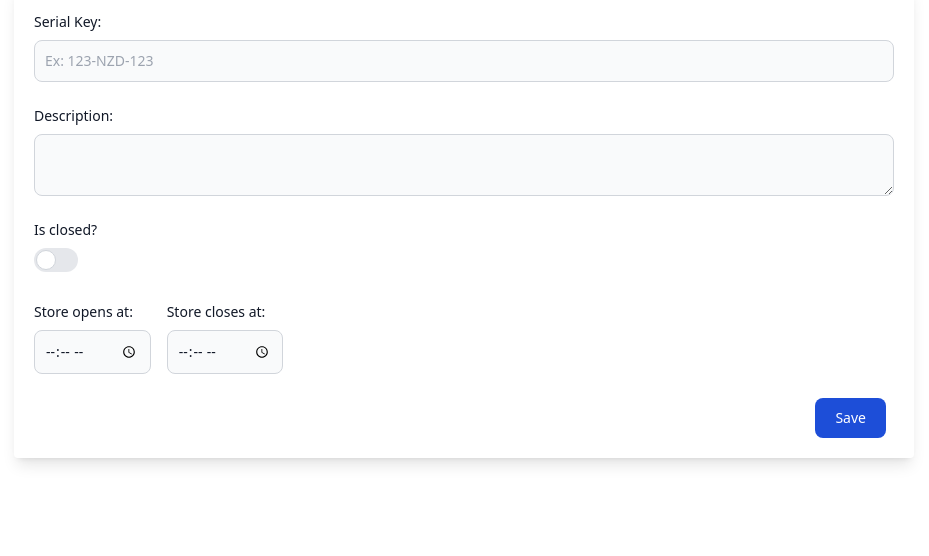
Test: show the required validation text when the fields values are invalid
Click the button at (851, 418), box x1=815 y1=398 x2=886 y2=438
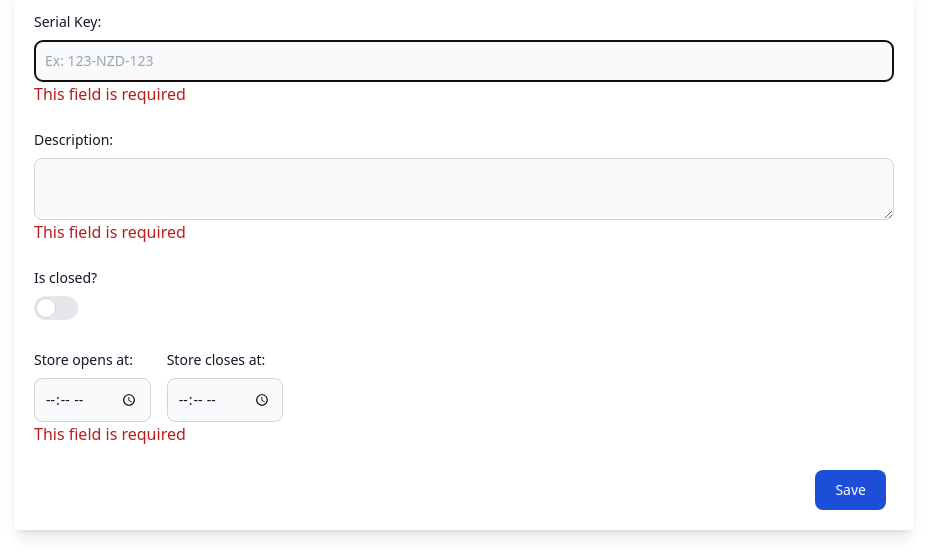
Check: the text "This field is required" is shown 3 times, box x1=34 y1=83 x2=186 y2=105; x1=34 y1=221 x2=186 y2=243; x1=34 y1=423 x2=186 y2=445
